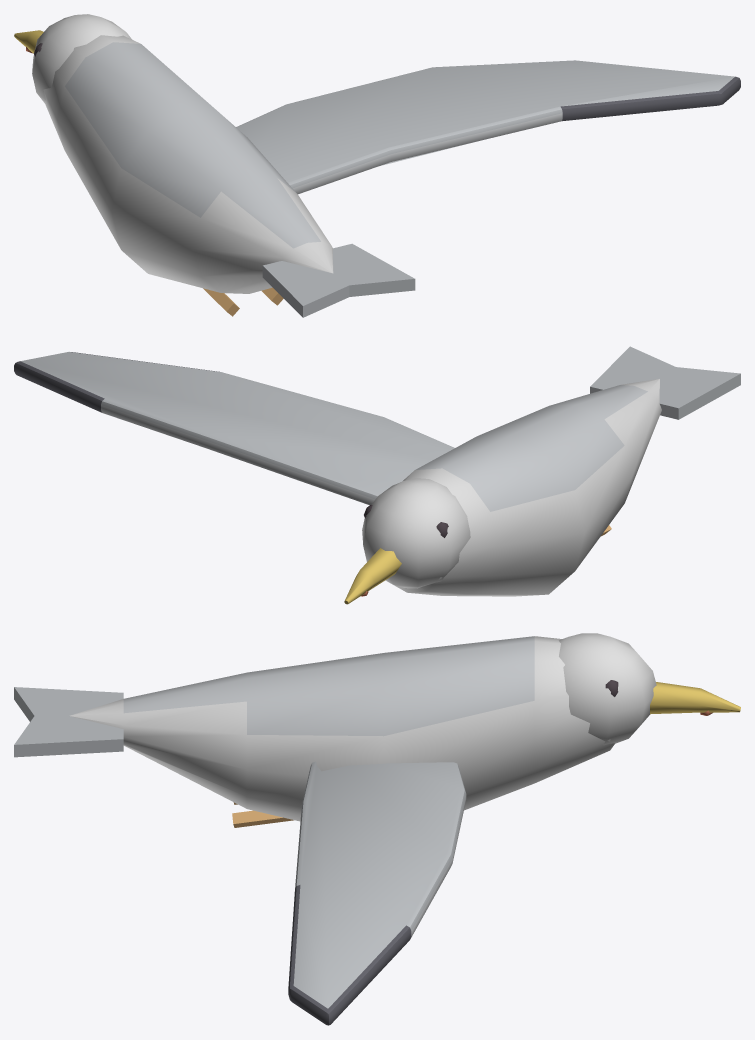
The model's file is gull.glb.
The picture shows the model from 3 angles, top to bottom: view 1: azimuth 30°, elevation 25°; view 2: azimuth 150°, elevation 25°; view 3: azimuth 270°, elevation 25°; orthographic projection. The views are drawn at different scales.
Parts seen in each view (by area): view 1: gull_body, gull_wing; view 2: gull_body, gull_wing; view 3: gull_body, gull_wing.
Part boxes in pixels (x1,y1,x2,y2): gull_body: (14,14,415,317); gull_wing: (236,60,740,194); gull_body: (344,346,740,604); gull_wing: (14,352,454,505); gull_body: (14,633,740,827); gull_wing: (288,761,466,1025).
Size of the model in its own units: 1.08 by 0.315 by 1.06.
